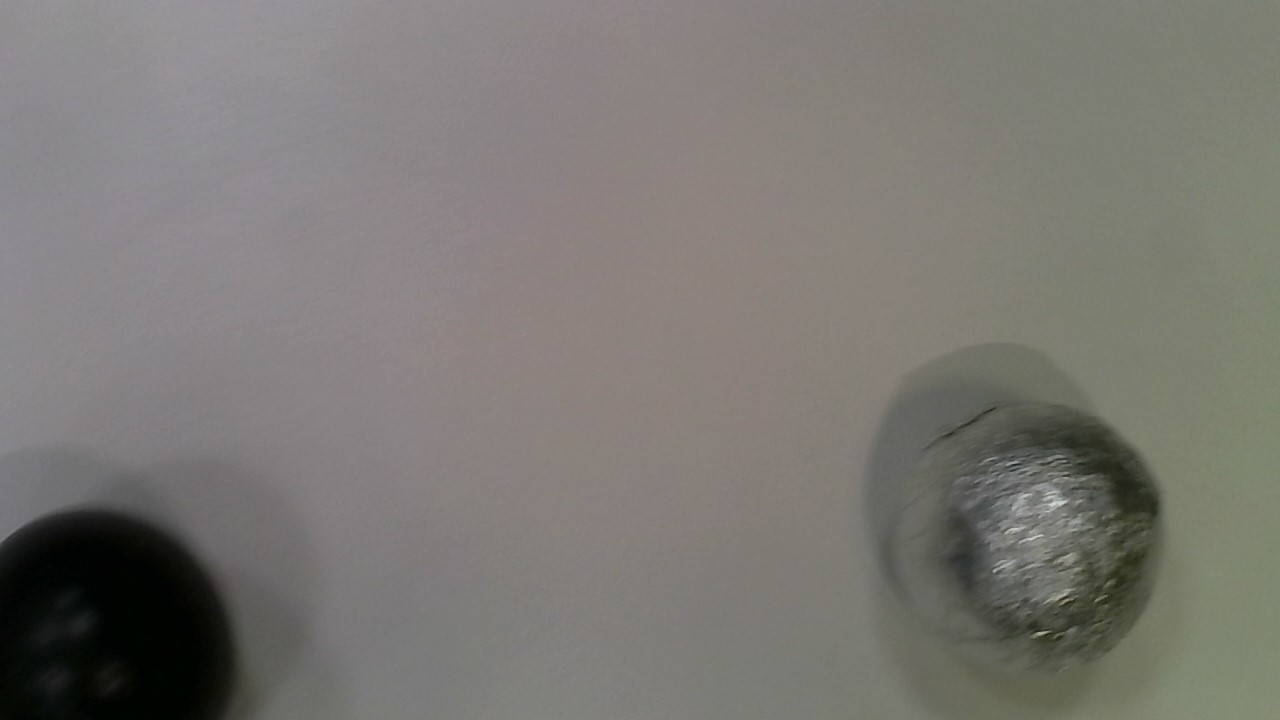silver_ball: (883, 395, 1171, 689)
